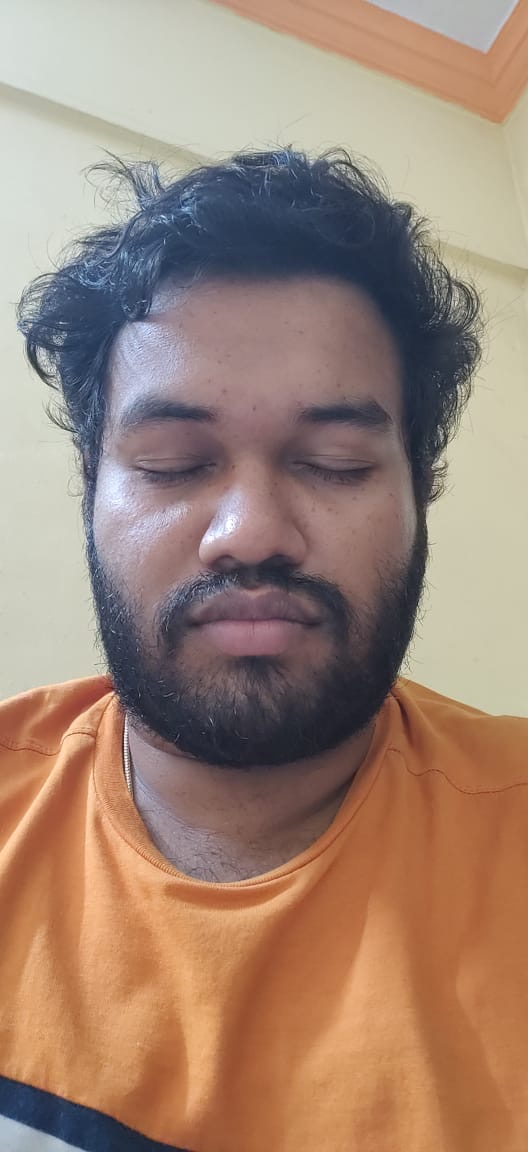Sleeping: (111, 433, 398, 497)
